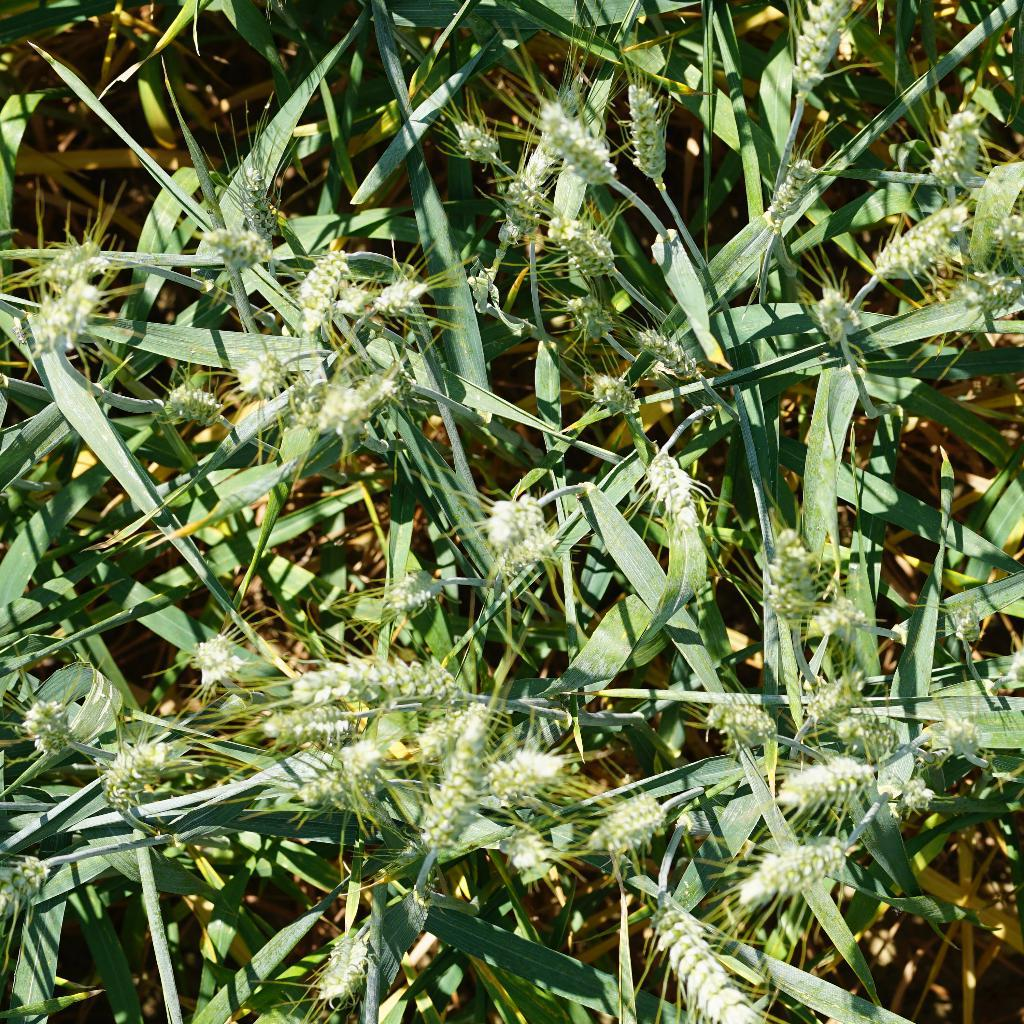0-0: (406, 694, 504, 860), (642, 888, 750, 1024), (276, 651, 473, 712), (530, 90, 631, 197), (462, 119, 544, 236), (778, 0, 873, 96), (725, 833, 845, 909), (613, 71, 686, 190), (864, 208, 972, 280), (918, 85, 991, 190), (630, 451, 717, 538), (755, 519, 819, 628), (619, 309, 713, 382), (770, 758, 888, 813), (212, 150, 287, 232), (290, 240, 354, 335), (583, 784, 669, 852), (8, 690, 82, 766), (309, 918, 367, 1013), (546, 217, 628, 283), (85, 746, 178, 804), (789, 658, 867, 727), (298, 748, 380, 813), (141, 381, 235, 437), (198, 216, 284, 275), (40, 281, 103, 361), (914, 702, 986, 769), (298, 381, 385, 436), (699, 694, 784, 750), (871, 759, 950, 818), (258, 701, 370, 742), (475, 746, 560, 799), (553, 281, 620, 348), (365, 266, 438, 326), (225, 335, 292, 400), (444, 111, 508, 175), (493, 810, 557, 874), (758, 156, 819, 223), (946, 273, 1023, 325), (32, 232, 112, 280), (813, 280, 866, 352), (0, 849, 48, 925), (374, 564, 443, 616), (834, 709, 908, 757), (449, 239, 504, 299), (477, 484, 544, 533), (484, 531, 555, 576), (185, 634, 250, 683), (408, 710, 470, 761), (586, 370, 639, 429), (813, 586, 866, 642), (948, 591, 994, 650)
